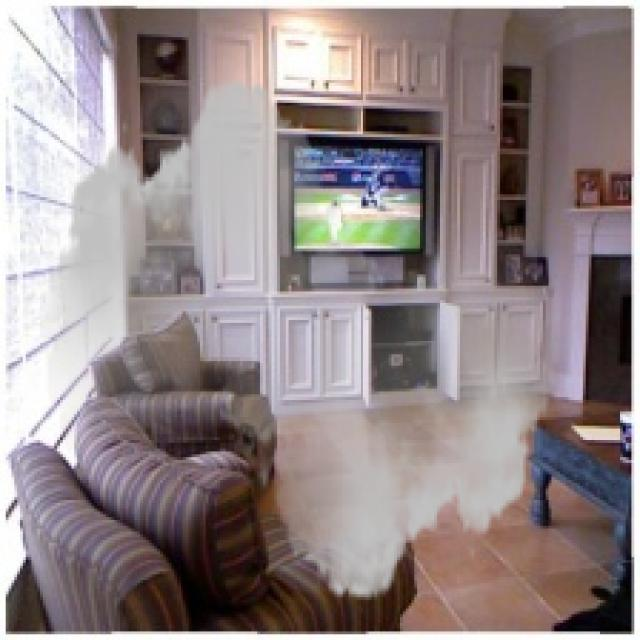smoke: (40, 63, 557, 617)
